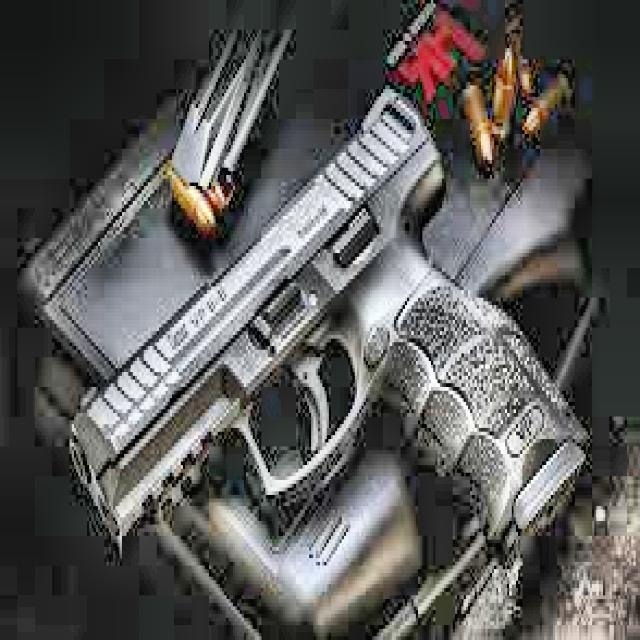HKVP9: (66, 82, 592, 575)
